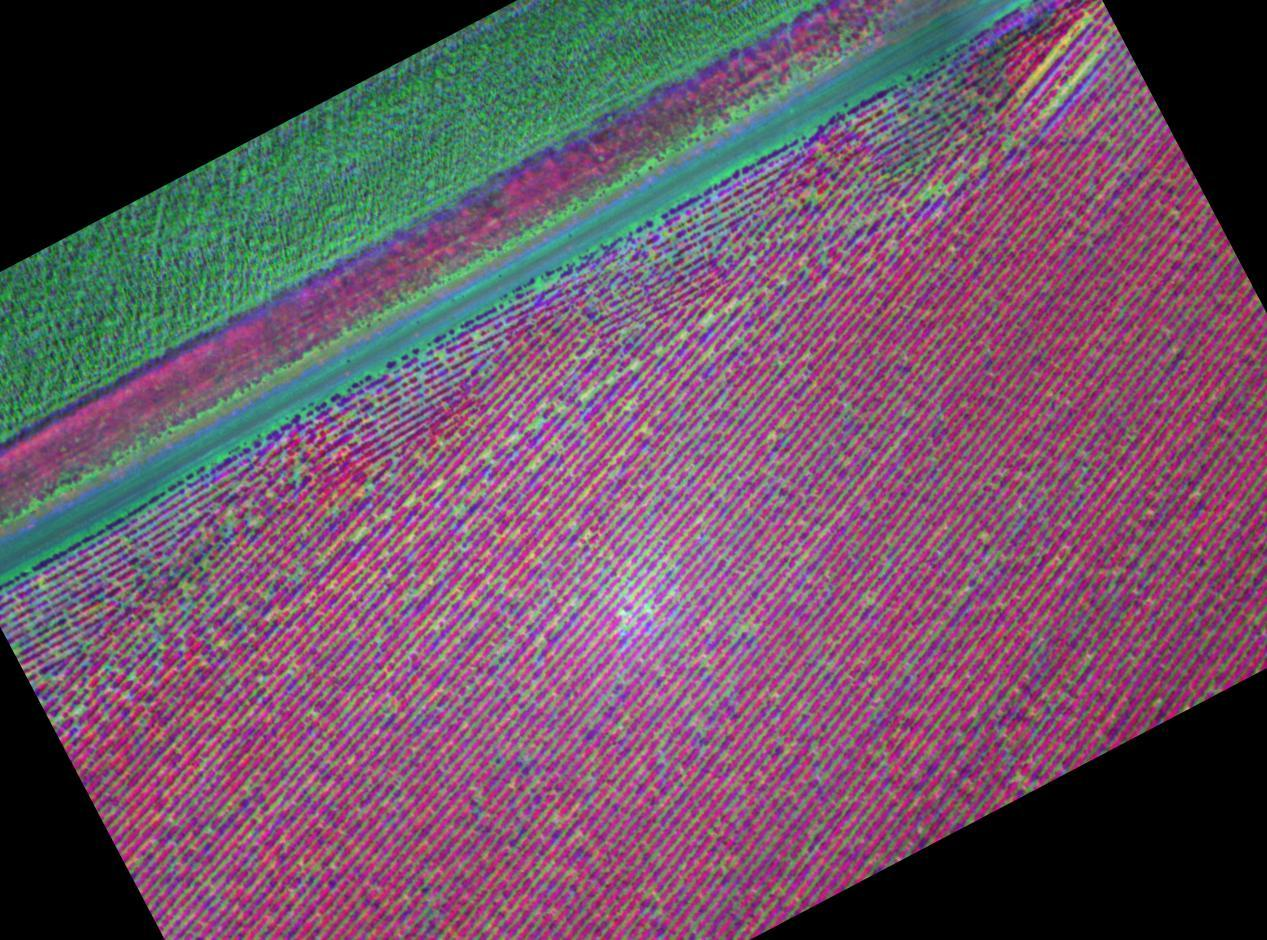dc: (356, 531, 362, 537), (77, 707, 83, 712), (536, 422, 541, 427), (255, 521, 260, 526), (928, 190, 933, 194), (297, 569, 302, 573), (704, 319, 708, 323)
